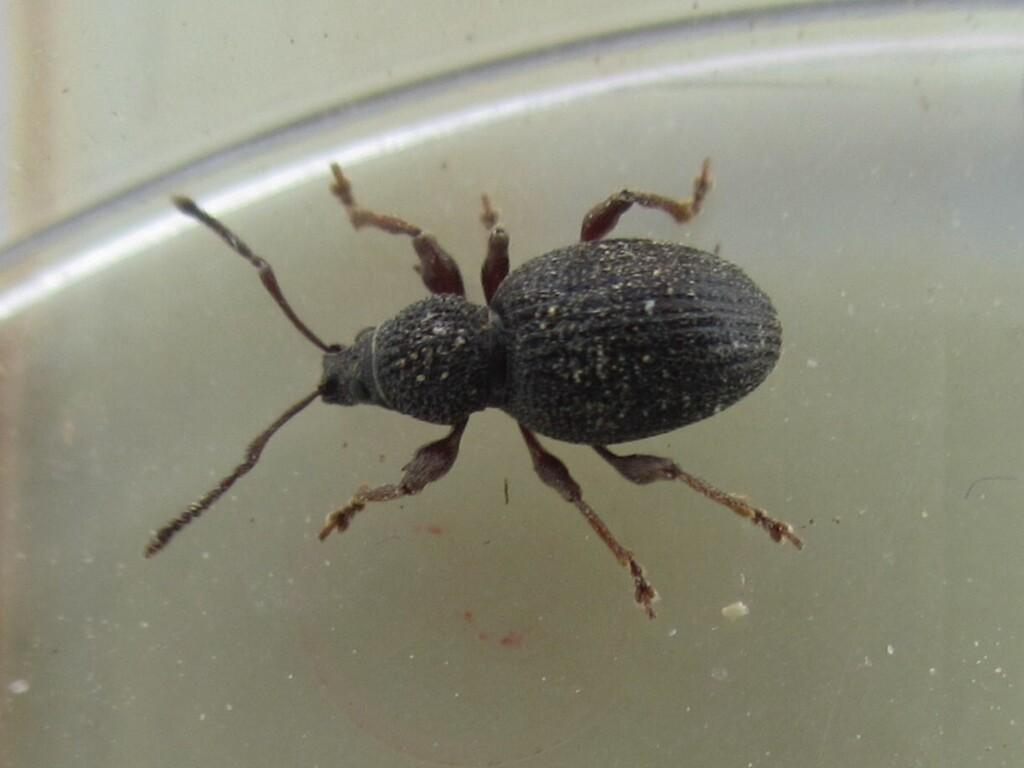weevils: (76, 114, 912, 658)
